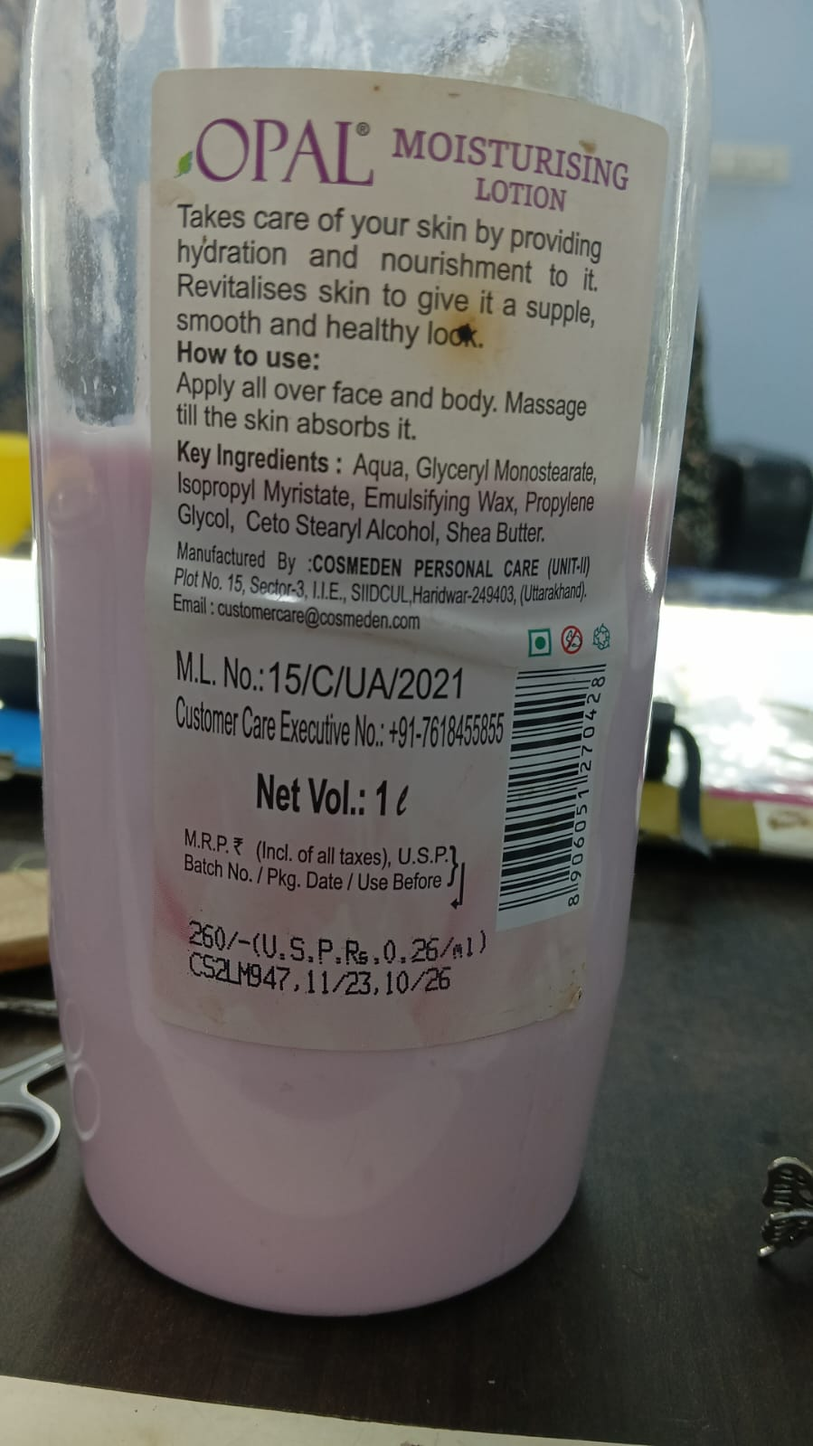brand_panel: (174, 101, 690, 213)
consumer_care: (175, 593, 457, 643)
manufacturer: (161, 536, 610, 580)
mfg_date: (303, 969, 382, 1001)
mrp: (171, 909, 254, 954)
net_qty: (231, 765, 435, 832)
